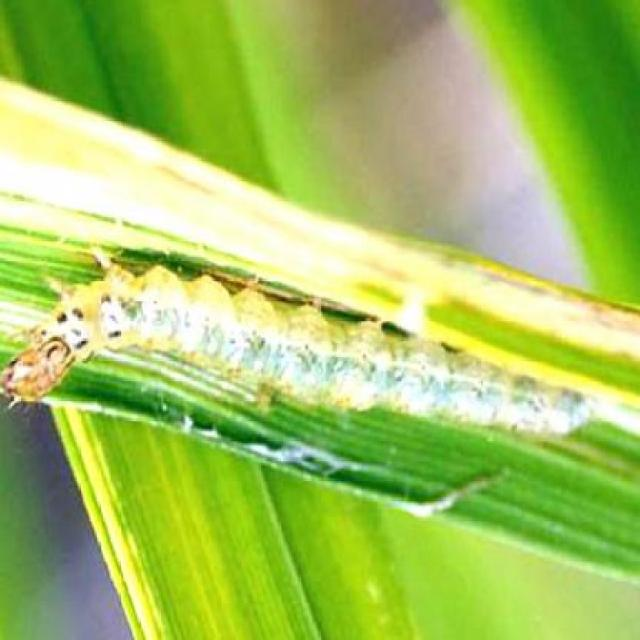leaf-folder: (7, 212, 596, 492)
